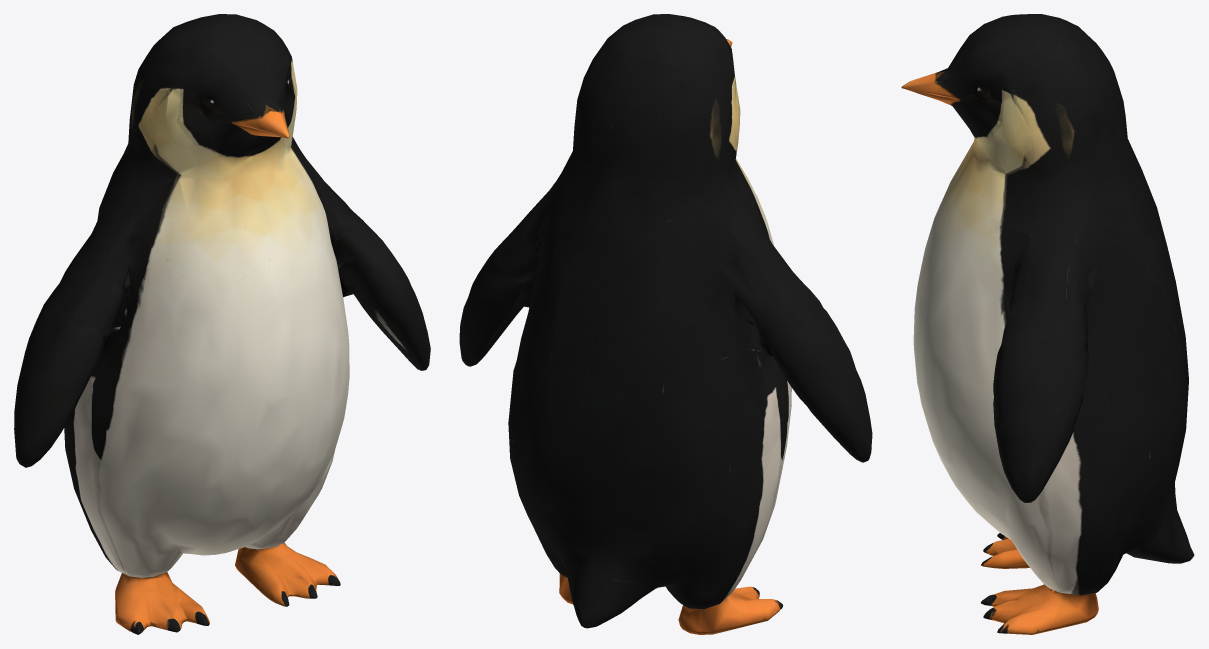
The model's file is penguin-arms.glb.
3 renders of one model, left to right at view 1: azimuth 30°, elevation 25°; view 2: azimuth 150°, elevation 25°; view 3: azimuth 270°, elevation 25°, orthographic. The views are drawn at different scales.
Parts seen in each view (by area): view 1: penguin; view 2: penguin; view 3: penguin.
Part boxes in pixels (box(x1,y1,x2,y2)): penguin: box(14, 14, 430, 634); penguin: box(459, 14, 872, 634); penguin: box(901, 14, 1194, 634).
Size of the model in its own units: 1.41 by 1.9 by 0.8937.
Materials: 1 (1 with a texture image).
